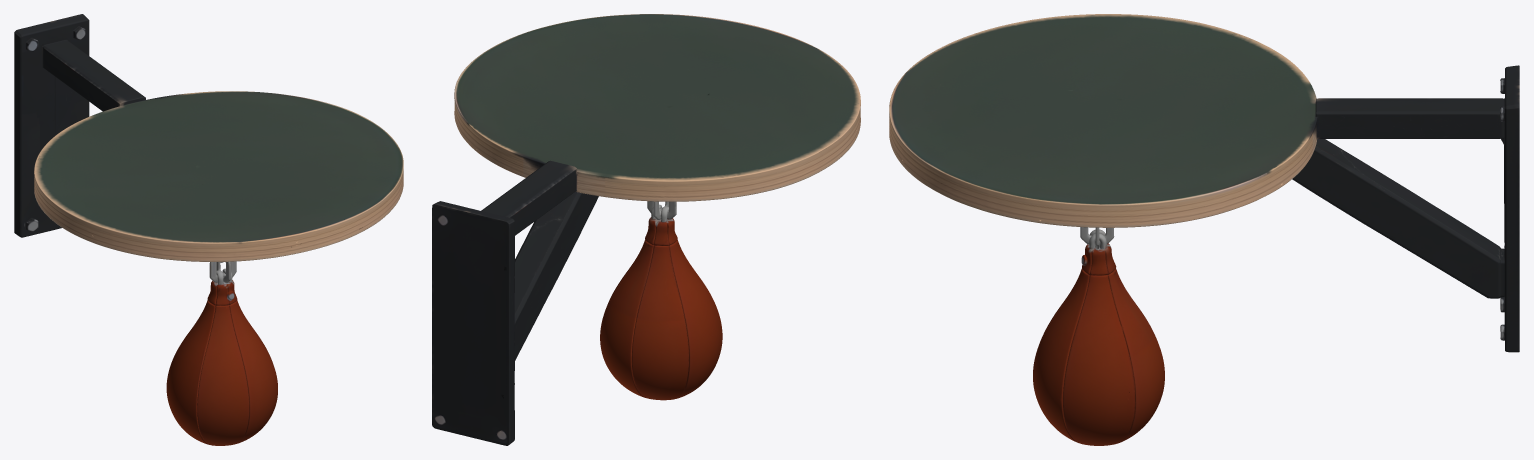
File: speed_bag_platform__hunyuan.glb
3 renders of one model, left to right at view 1: azimuth 30°, elevation 25°; view 2: azimuth 150°, elevation 25°; view 3: azimuth 270°, elevation 25°, orthographic. The views are drawn at different scales.
Visible parts, largest first — view 1: material; view 2: material; view 3: material.
Part boxes in pixels (x1,y1,x2,y2): material: (14,14,403,445); material: (432,14,860,445); material: (889,14,1519,445).
Bounding box in the file's own units: 0.7284 × 0.6275 × 1.01.
Materials: 1 (1 with a texture image).
